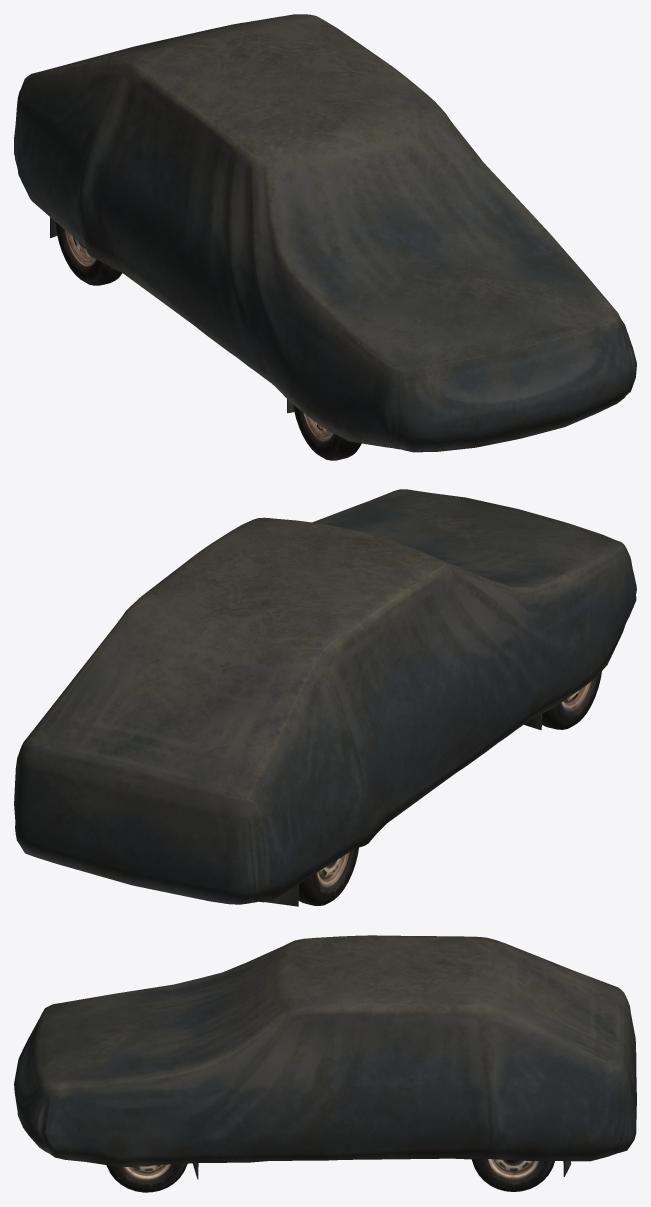
File: covered_car.glb
3 renders of one model, top to bottom at view 1: azimuth 30°, elevation 25°; view 2: azimuth 150°, elevation 25°; view 3: azimuth 270°, elevation 25°, orthographic. The views are drawn at different scales.
Visible parts, largest first — view 1: car_LOD0; view 2: car_LOD0; view 3: car_LOD0.
Part boxes in pixels (bbox=[...]): car_LOD0: bbox=[14, 14, 636, 460]; car_LOD0: bbox=[14, 489, 636, 906]; car_LOD0: bbox=[14, 935, 636, 1192].
Size of what is drawn, in the model's own units: 1.79 by 1.41 by 4.38.
1 material, 1 textured.
